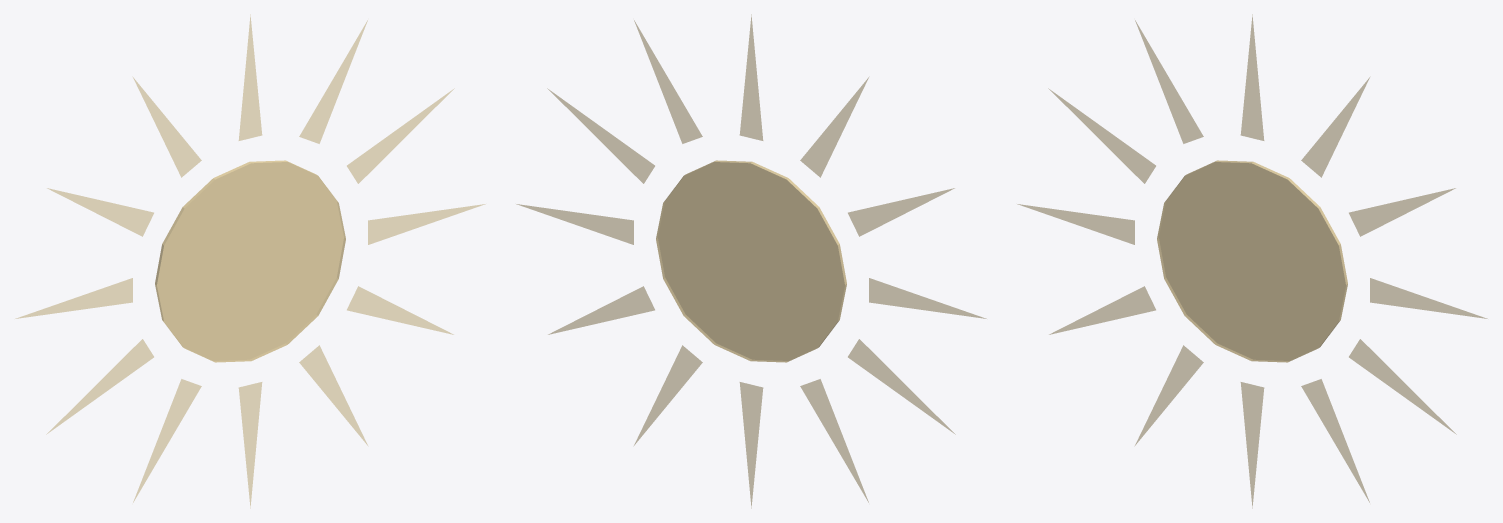
The model's file is sun_rays_card.glb.
3 views of the same model, side by side, from view 1: azimuth 30°, elevation 25°; view 2: azimuth 150°, elevation 25°; view 3: azimuth 330°, elevation 25° (orthographic).
Parts seen in each view (by area): view 1: sun, ray.001, ray.007, ray.003, ray.009, ray, ray.006, ray.002, ray.008, ray.004, ray.010, ray.005 (+1 smaller); view 2: sun, ray.001, ray.007, ray.003, ray.009, ray, ray.006, ray.002, ray.008, ray.004, ray.010, ray.005 (+1 smaller); view 3: sun, ray.005, ray.011, ray.003, ray.009, ray, ray.006, ray.004, ray.010, ray.002, ray.008, ray.001 (+1 smaller).
Part boxes in pixels (<box>): sun: <box>155,160,345,362</box>; ray.001: <box>347,88,454,183</box>; ray.007: <box>46,339,153,434</box>; ray.003: <box>238,14,262,140</box>; ray.009: <box>238,382,262,508</box>; ray: <box>368,204,485,244</box>; ray.006: <box>15,278,132,318</box>; ray.002: <box>299,20,367,143</box>; ray.008: <box>133,379,201,502</box>; ray.004: <box>133,77,201,177</box>; ray.010: <box>299,345,367,445</box>; ray.005: <box>47,188,153,236</box>; sun: <box>656,160,846,362</box>; ray.001: <box>547,88,654,183</box>; ray.007: <box>848,339,955,434</box>; ray.003: <box>739,14,763,140</box>; ray.009: <box>739,382,763,508</box>; ray: <box>516,204,633,244</box>; ray.006: <box>869,278,986,318</box>; ray.002: <box>634,20,702,143</box>; ray.008: <box>800,379,868,502</box>; ray.004: <box>800,77,868,177</box>; ray.010: <box>634,345,702,445</box>; ray.005: <box>848,188,954,236</box>; sun: <box>1157,160,1347,362</box>; ray.005: <box>1048,88,1155,183</box>; ray.011: <box>1349,339,1456,434</box>; ray.003: <box>1240,14,1264,140</box>; ray.009: <box>1240,382,1264,508</box>; ray: <box>1370,278,1487,318</box>; ray.006: <box>1017,204,1134,244</box>; ray.004: <box>1135,20,1203,143</box>; ray.010: <box>1301,379,1369,502</box>; ray.002: <box>1301,77,1369,177</box>; ray.008: <box>1135,345,1203,445</box>; ray.001: <box>1349,188,1455,236</box>.
Bounding box in the file's own units: 2 × 2 × 0.015.
